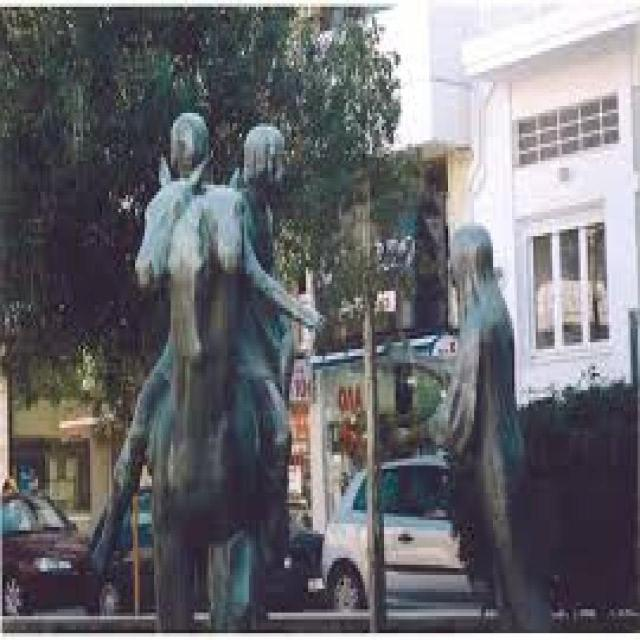Aretousa: (90, 114, 546, 640)
